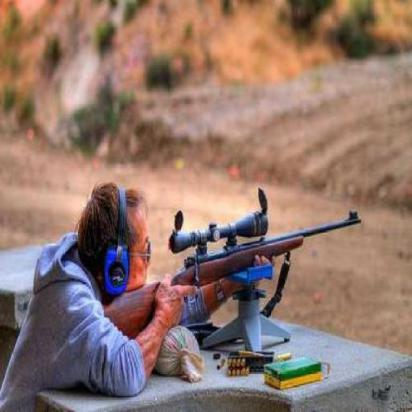Gun: (109, 199, 364, 336)
